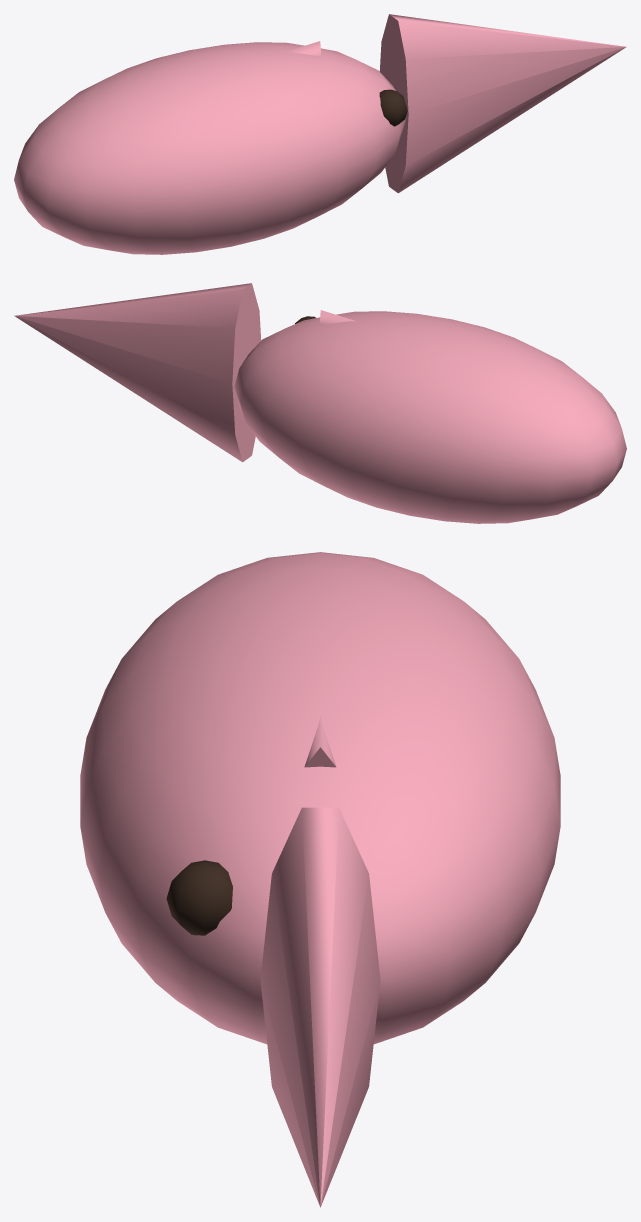
Rendered from huaiyang_prop_koi.glb.
The picture shows the model from 3 angles, top to bottom: view 1: azimuth 30°, elevation 25°; view 2: azimuth 150°, elevation 25°; view 3: azimuth 270°, elevation 25°; orthographic projection. The views are drawn at different scales.
Size of the model in its own units: 0.181 by 0.0495 by 0.0624.
